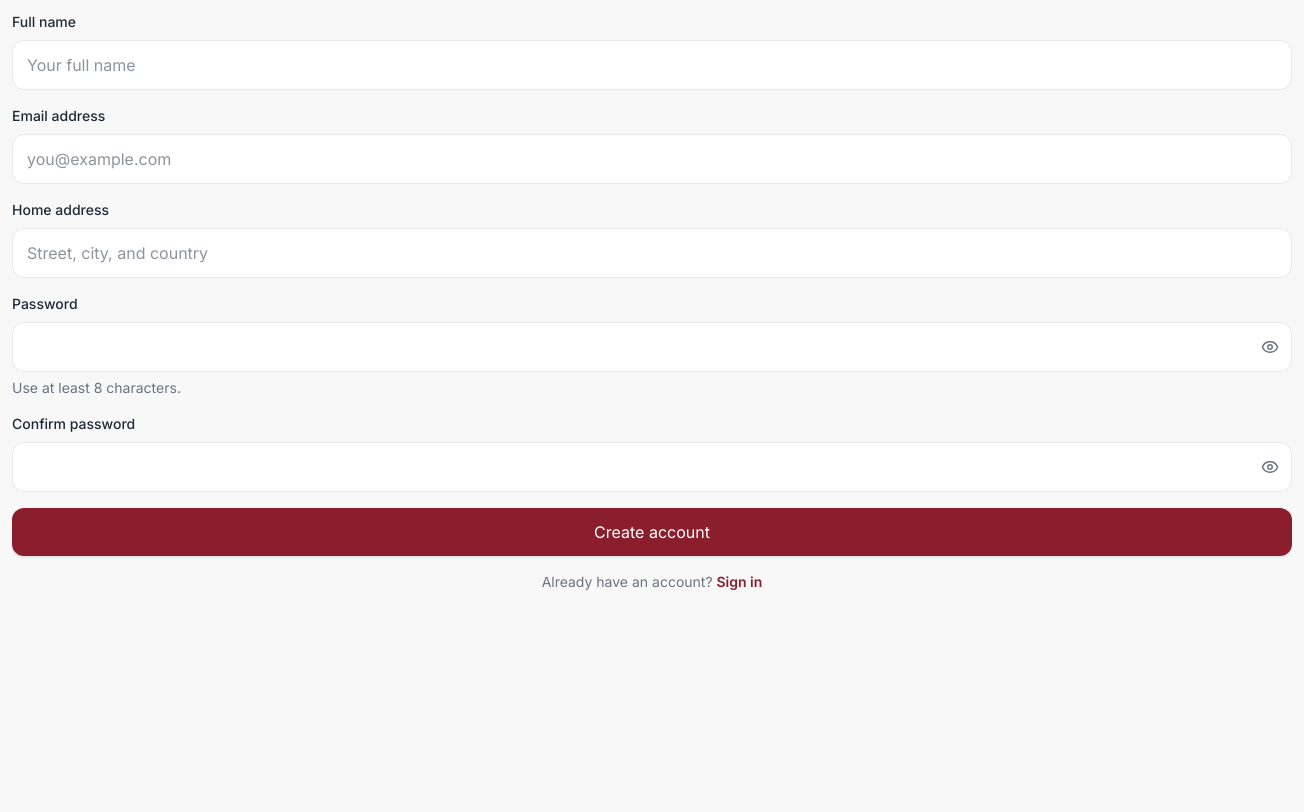
it: SignupForm › shows an error when password is too short
This screenshot has width=1304, height=812.
Step 1. Type "Jane Doe" into the field labelled "Full name" → (652, 65), box [12, 40, 1292, 90]
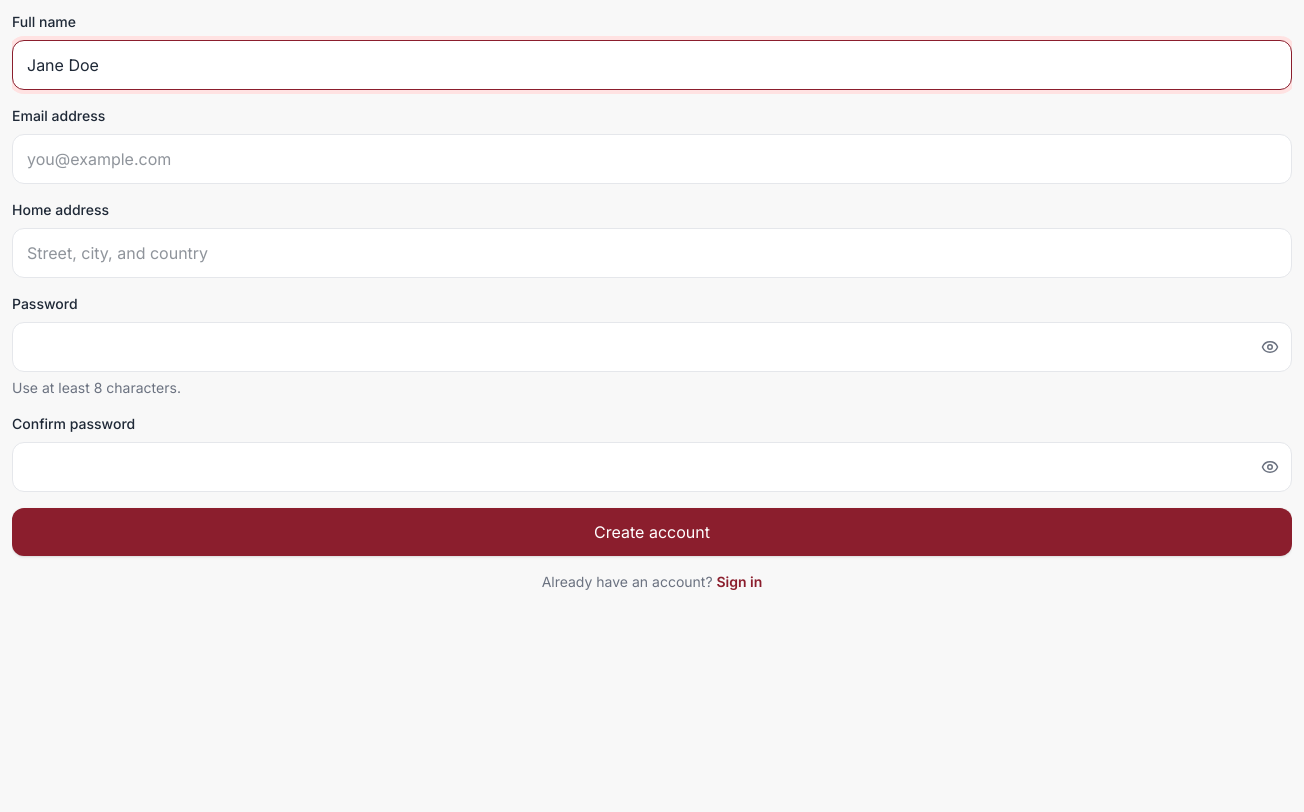
Step 2. Type "jane@example.com" into the field labelled "Email address" → (652, 159), box [12, 134, 1292, 184]
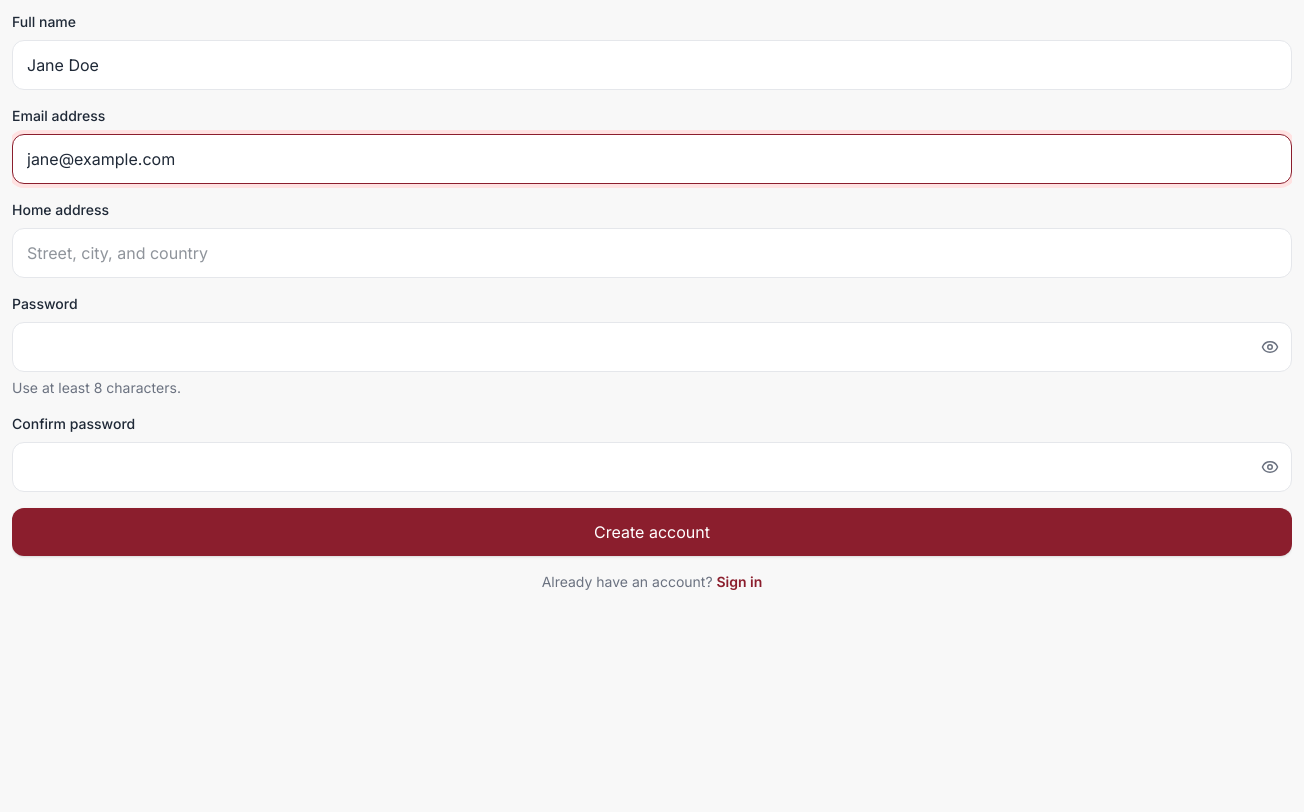
Step 3. Type "123 Main St" into the field labelled "Home address" → (652, 253), box [12, 228, 1292, 278]
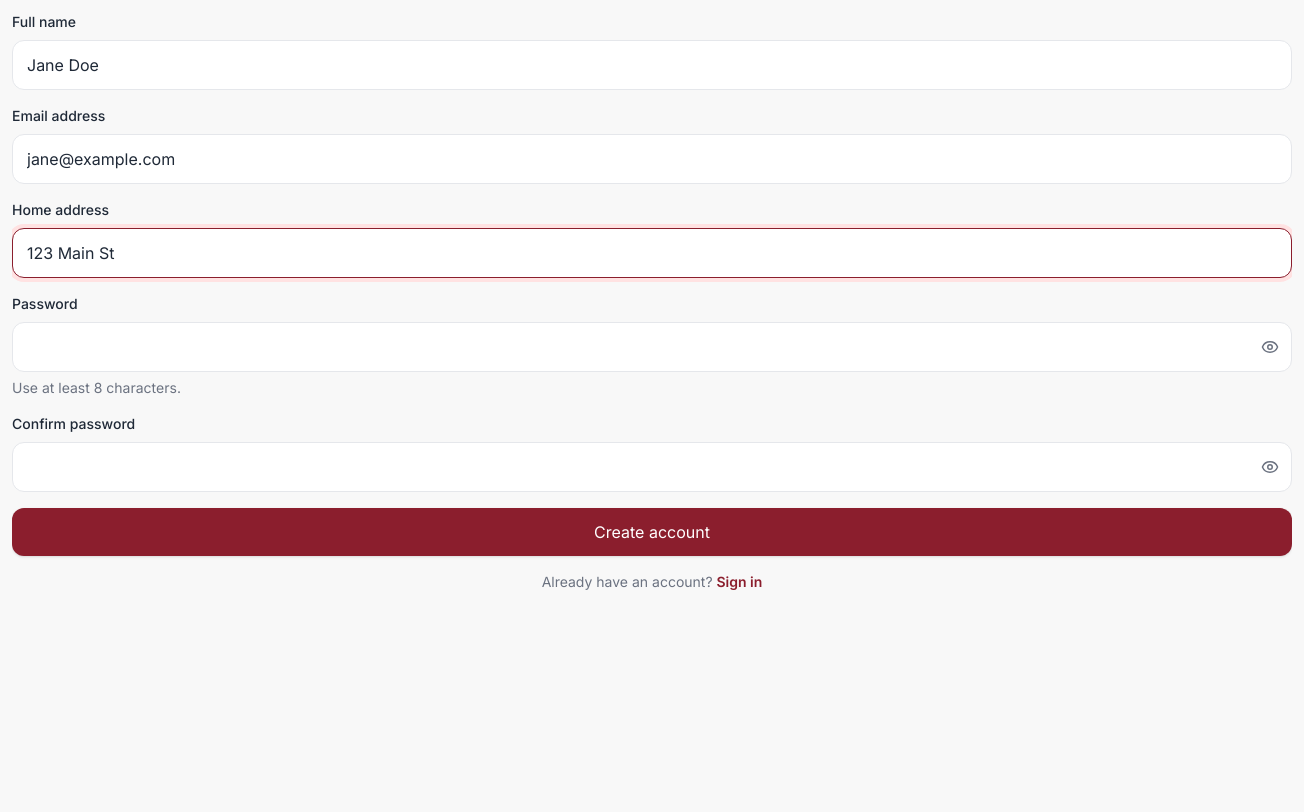
Step 4. Type "short" into the password field labelled "Password" → (652, 347), box [12, 322, 1292, 372]
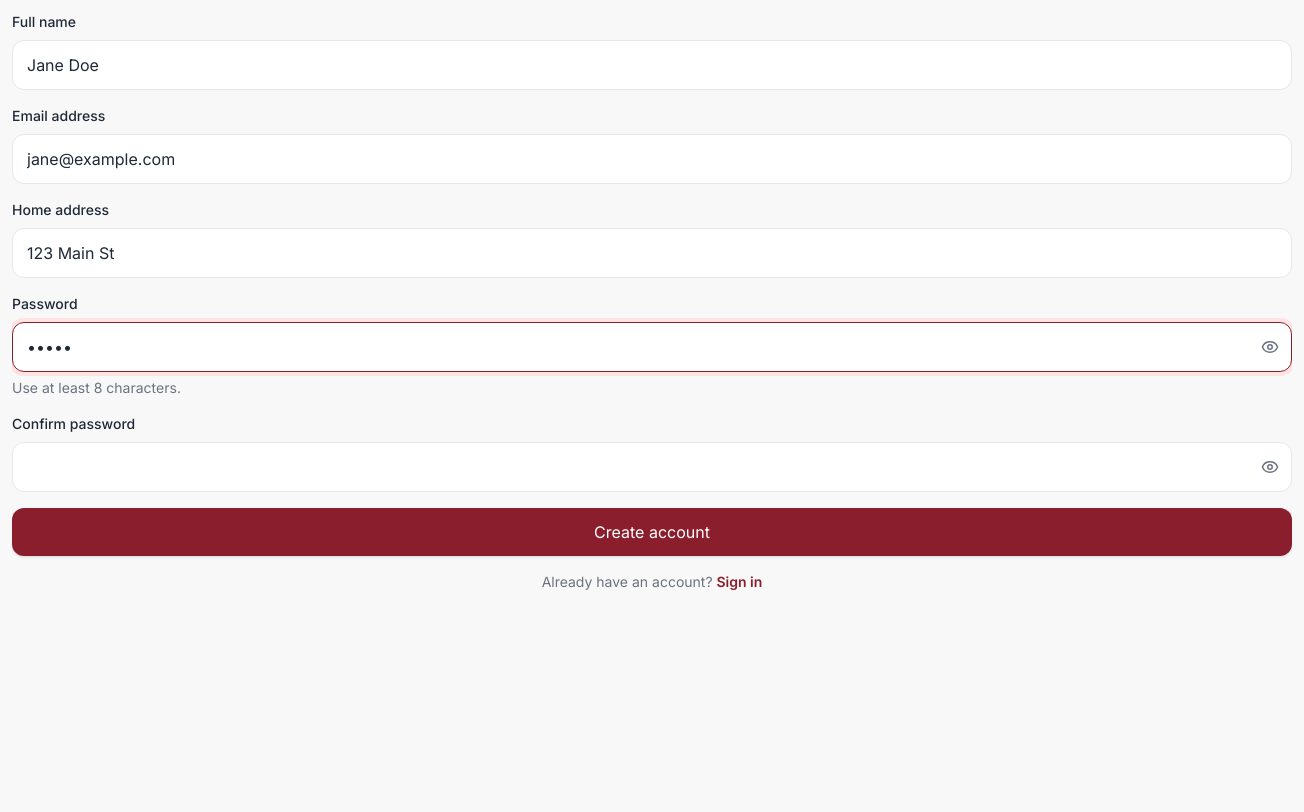
Step 5. Type "short" into the password field labelled "Confirm password" → (652, 467), box [12, 442, 1292, 492]
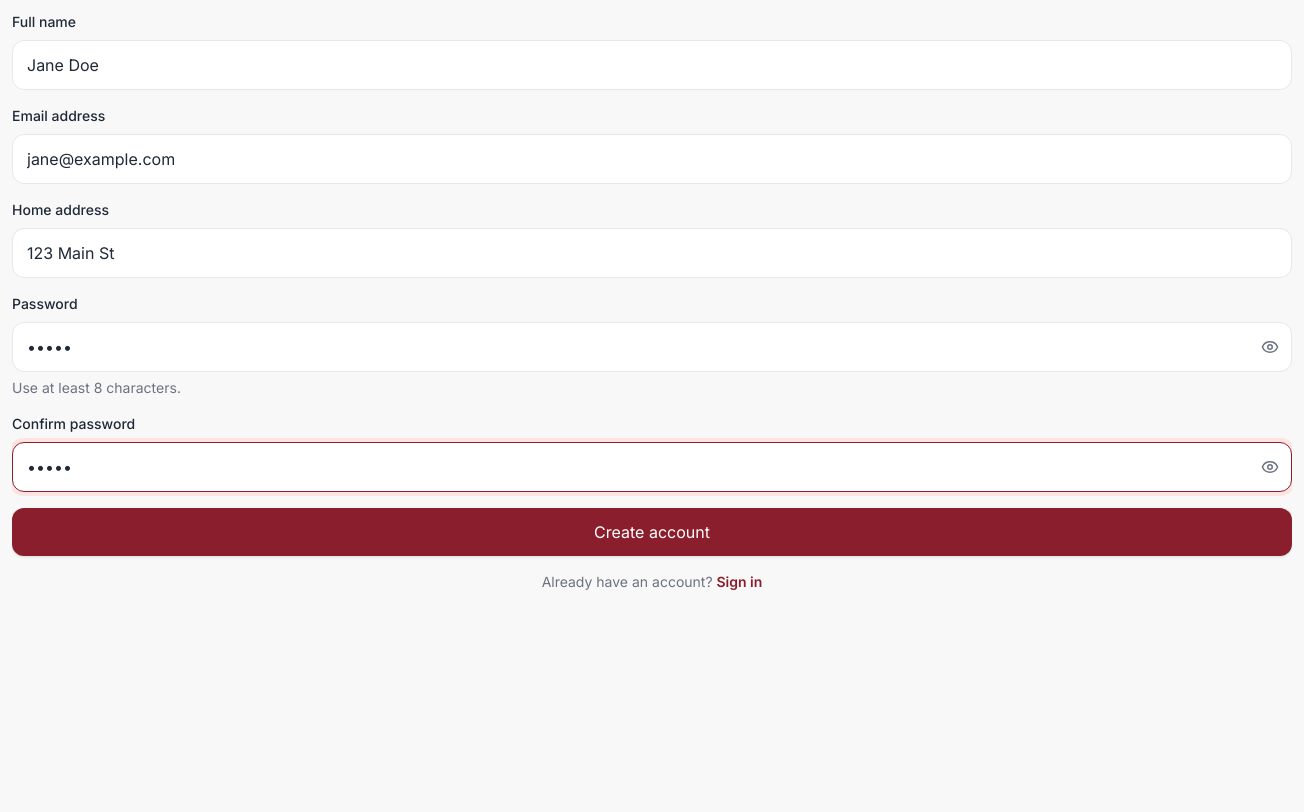
Step 6. Click the button "Create account" → (652, 532), box [12, 508, 1292, 556]
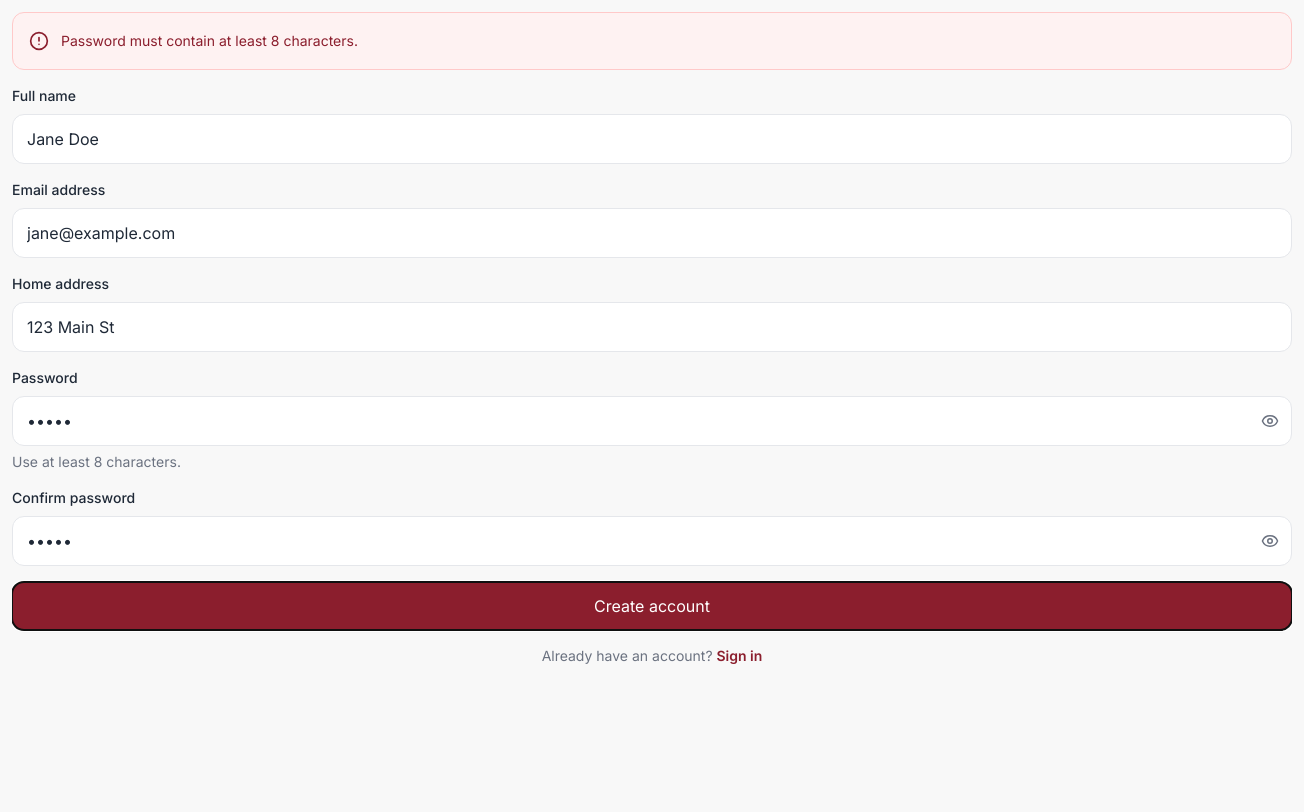
Expected: the message reads "Password must contain at least 8 characters.", [61, 32, 358, 49]
